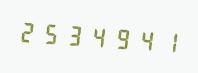five: (40, 15, 62, 50)
four: (86, 19, 108, 53), (132, 22, 154, 56)
nine: (109, 20, 131, 55)
one: (155, 24, 177, 58)
three: (63, 17, 85, 52)
two: (17, 14, 39, 48)
